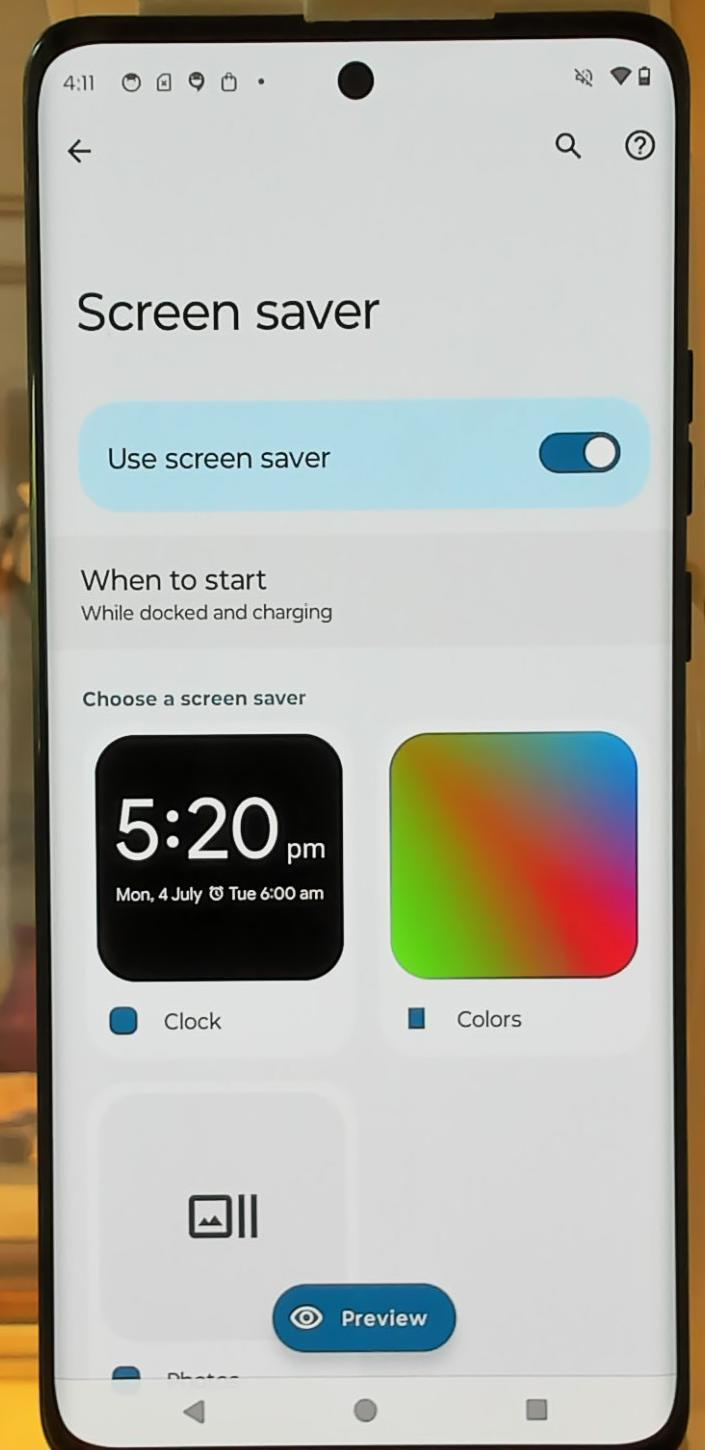Checkbox: (98, 423, 634, 492)
